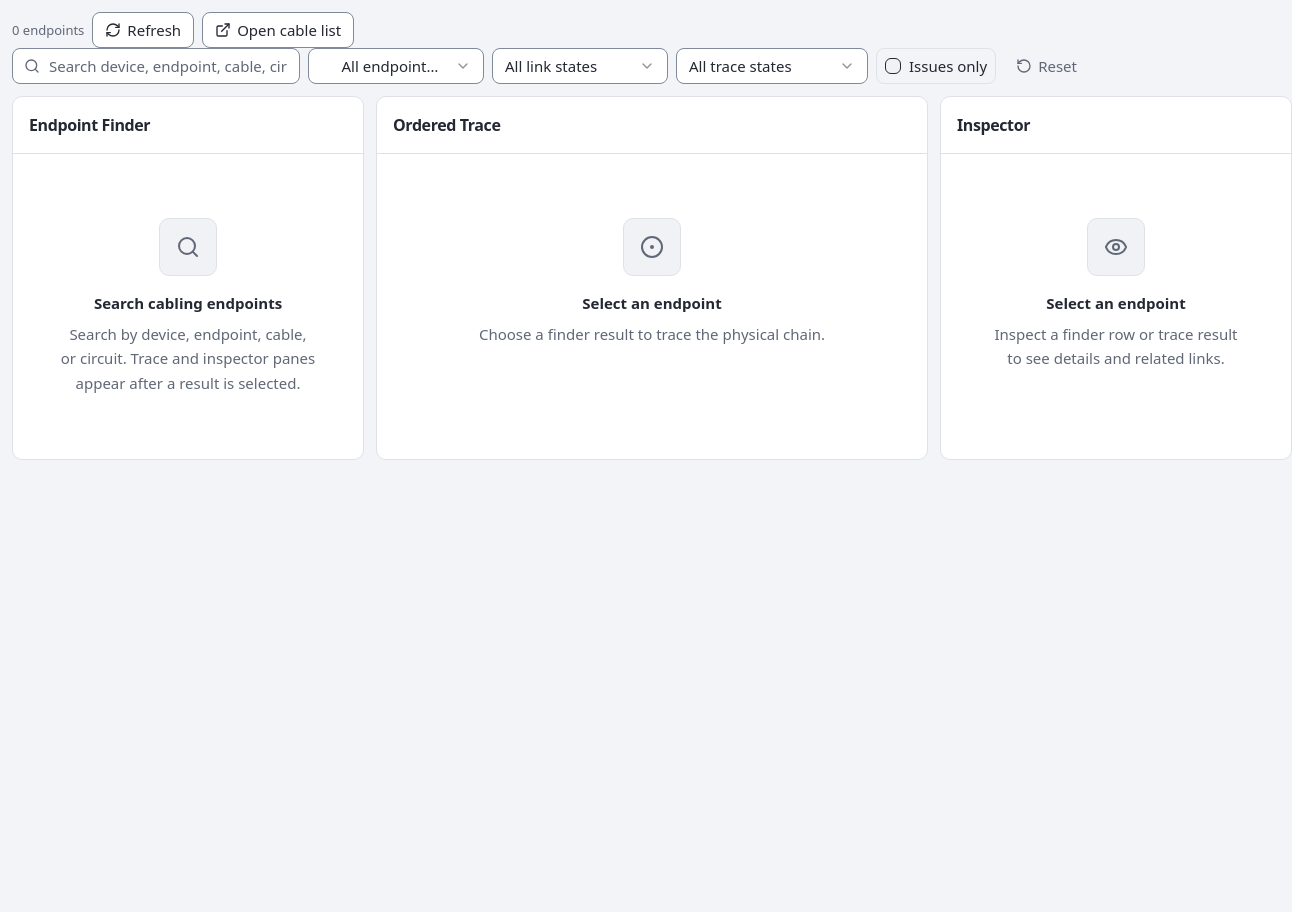
Test: CablingWorkstation › renders unsupported trace state and issue after selecting a result
Type "pdu" into the field with placeholder "Search device, endpoint, cable, circuit..." at (156, 66), box [12,48,300,84]
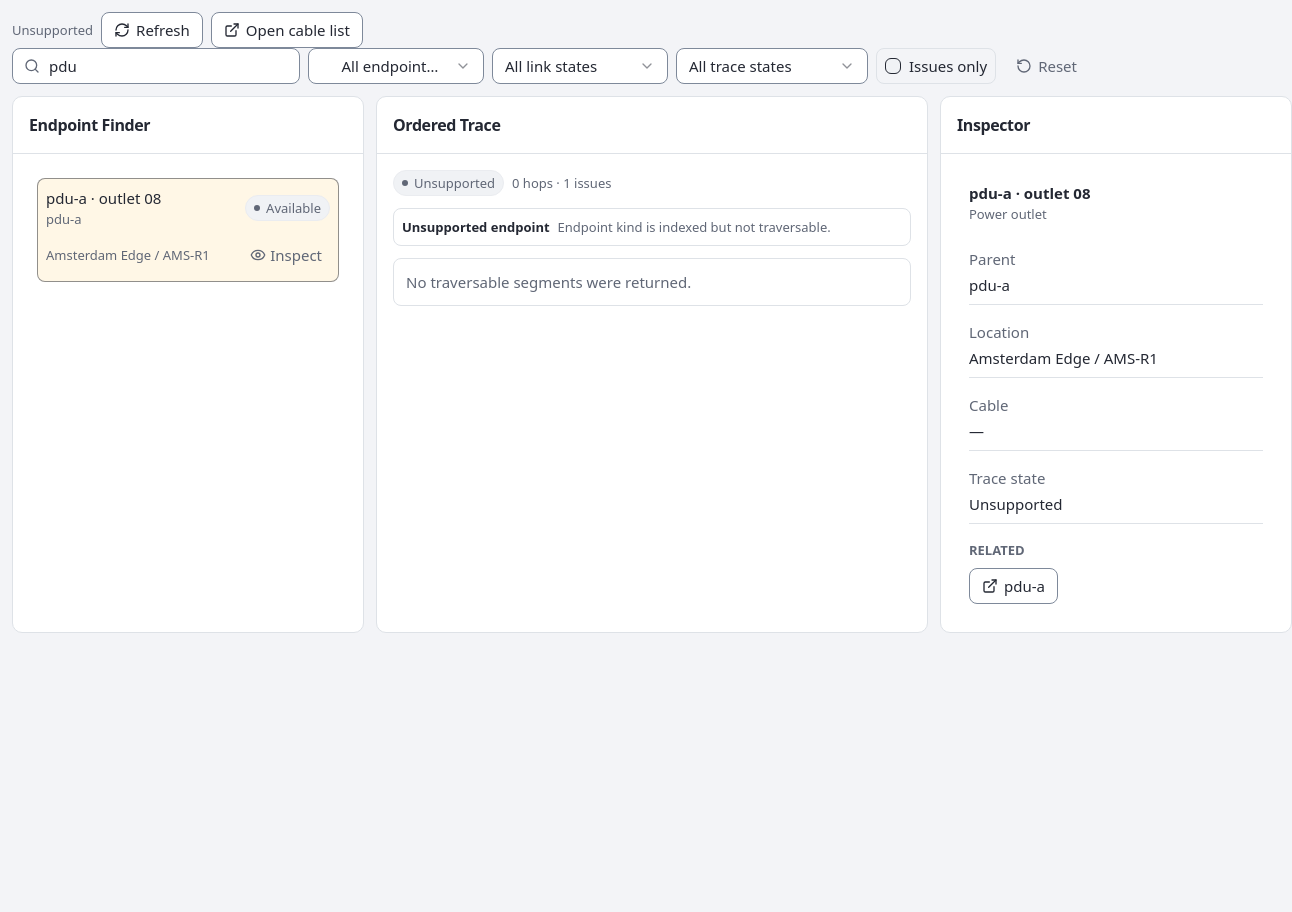
Check: the text "Unsupported endpoint" is shown, box [402,218,550,236]
